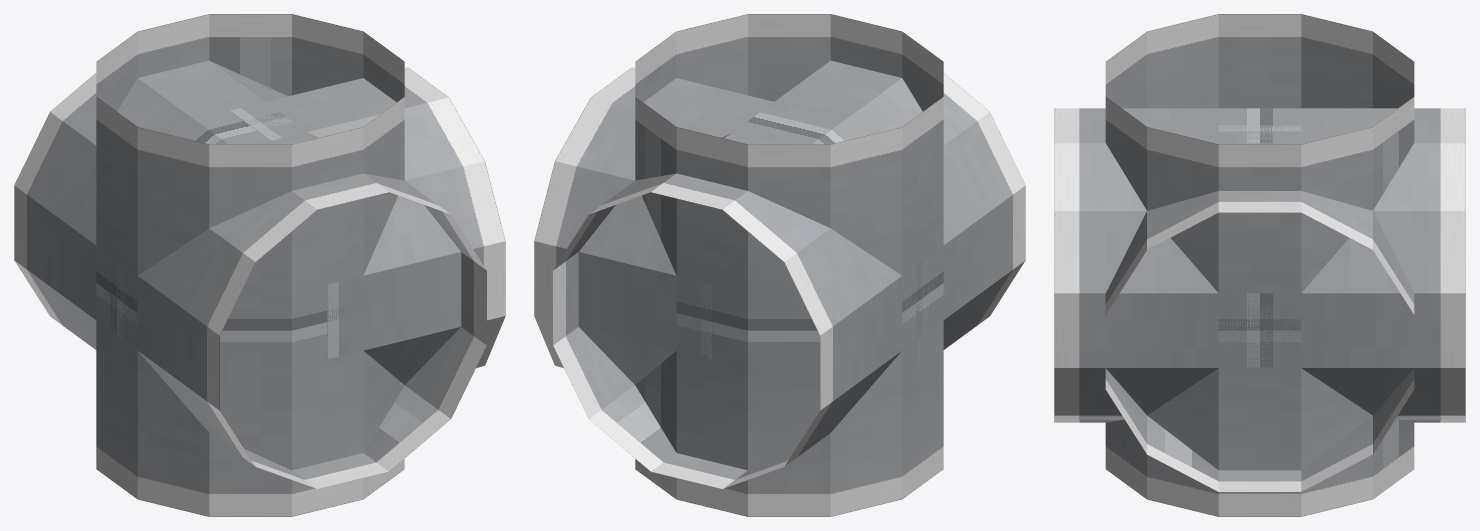
File: connection_47.obj
3 renders of one model, left to right at view 1: azimuth 30°, elevation 25°; view 2: azimuth 150°, elevation 25°; view 3: azimuth 270°, elevation 25°, orthographic.
Bounding box in the file's own units: 0.875 × 1 × 1.
